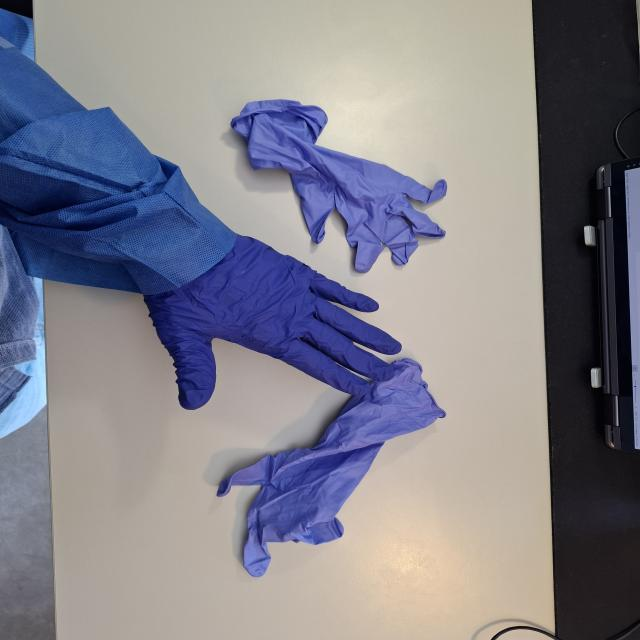glove_on: (136, 230, 408, 411)
